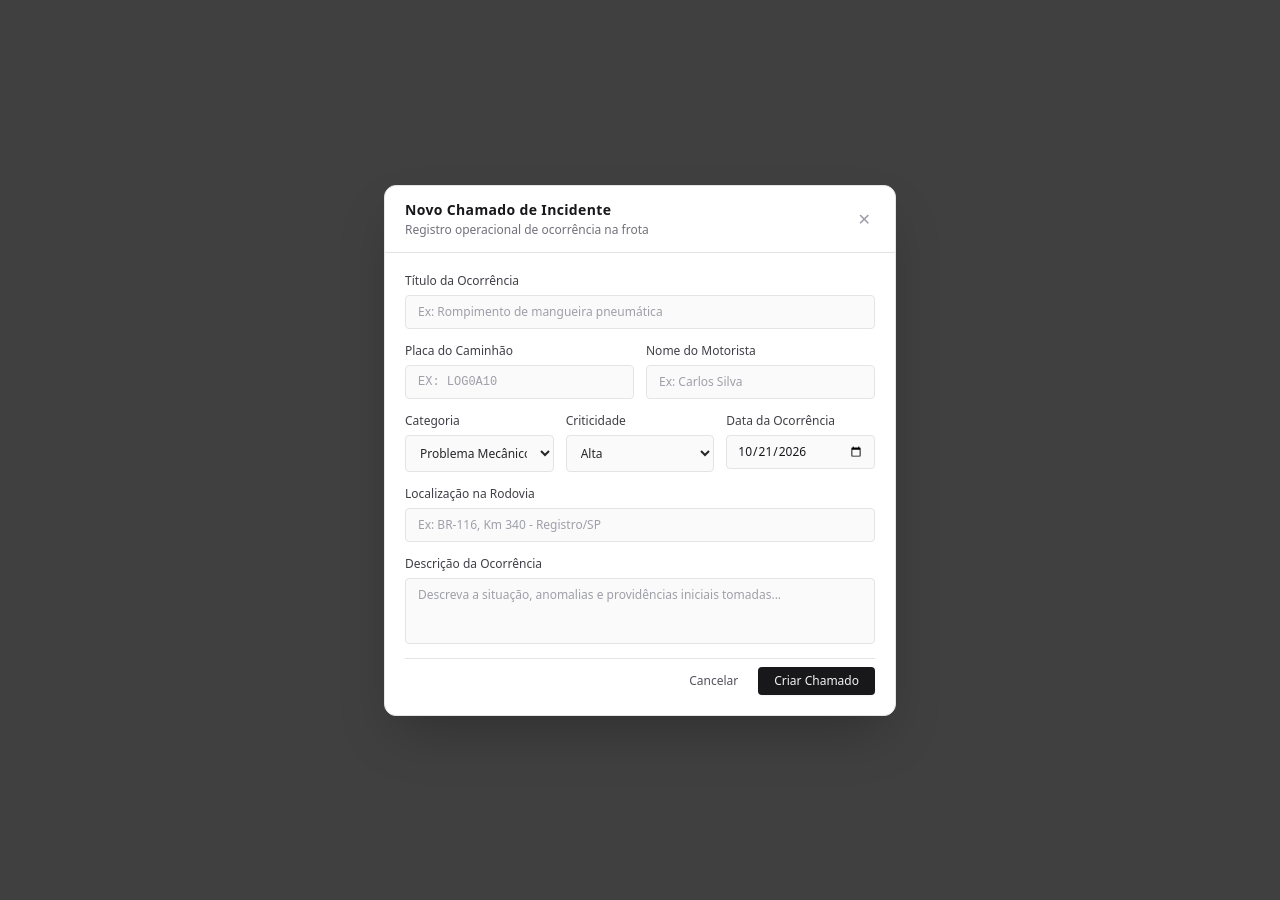
Test: CreateIncidentModal › shows error when plate format is invalid
The width and height of the screenshot is (1280, 900).
Type "INVALID" into the field labelled "Placa do Caminhão". click: (520, 382)
box: [405,364,634,398]
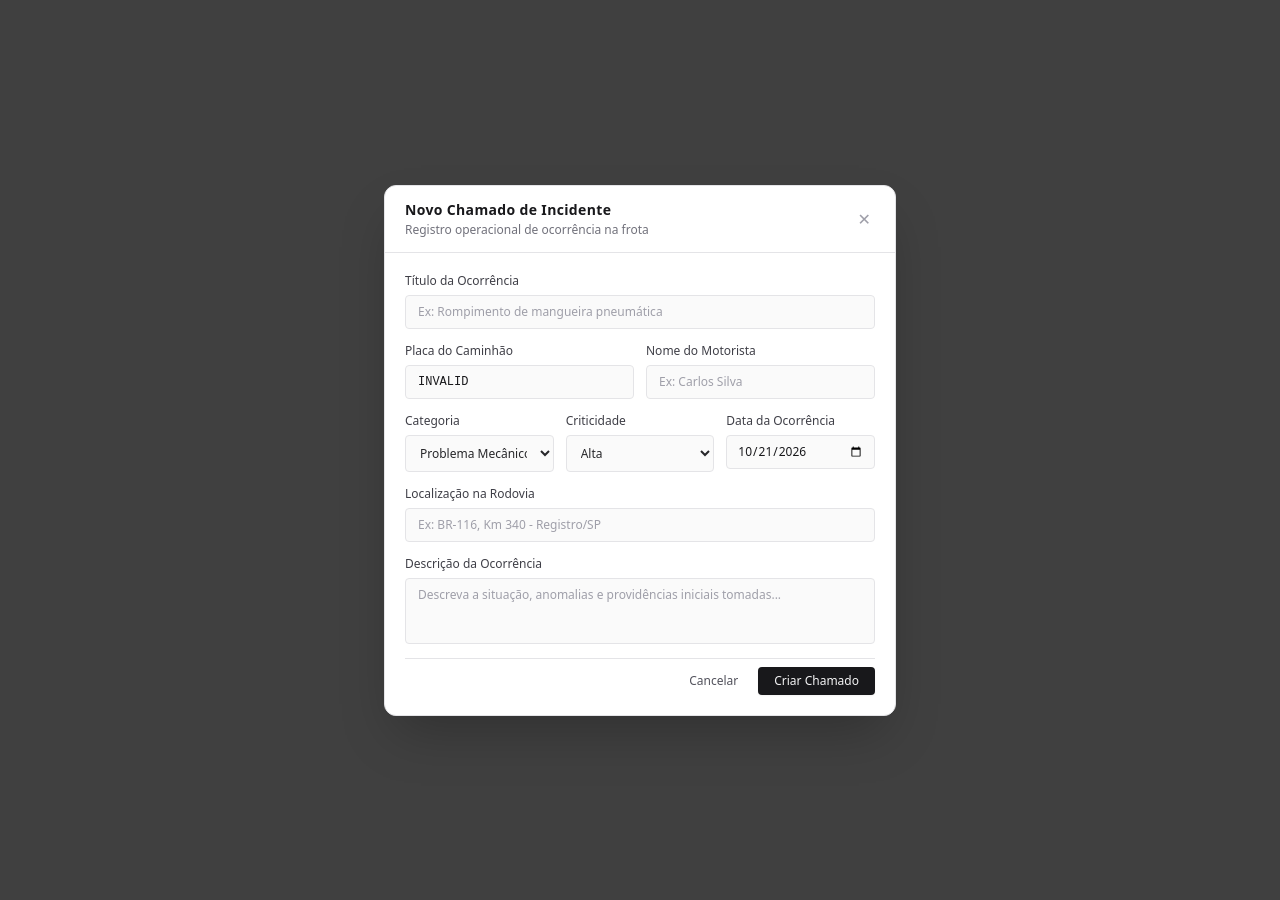
Leave the field labelled "Placa do Caminhão", box [405,364,634,398]
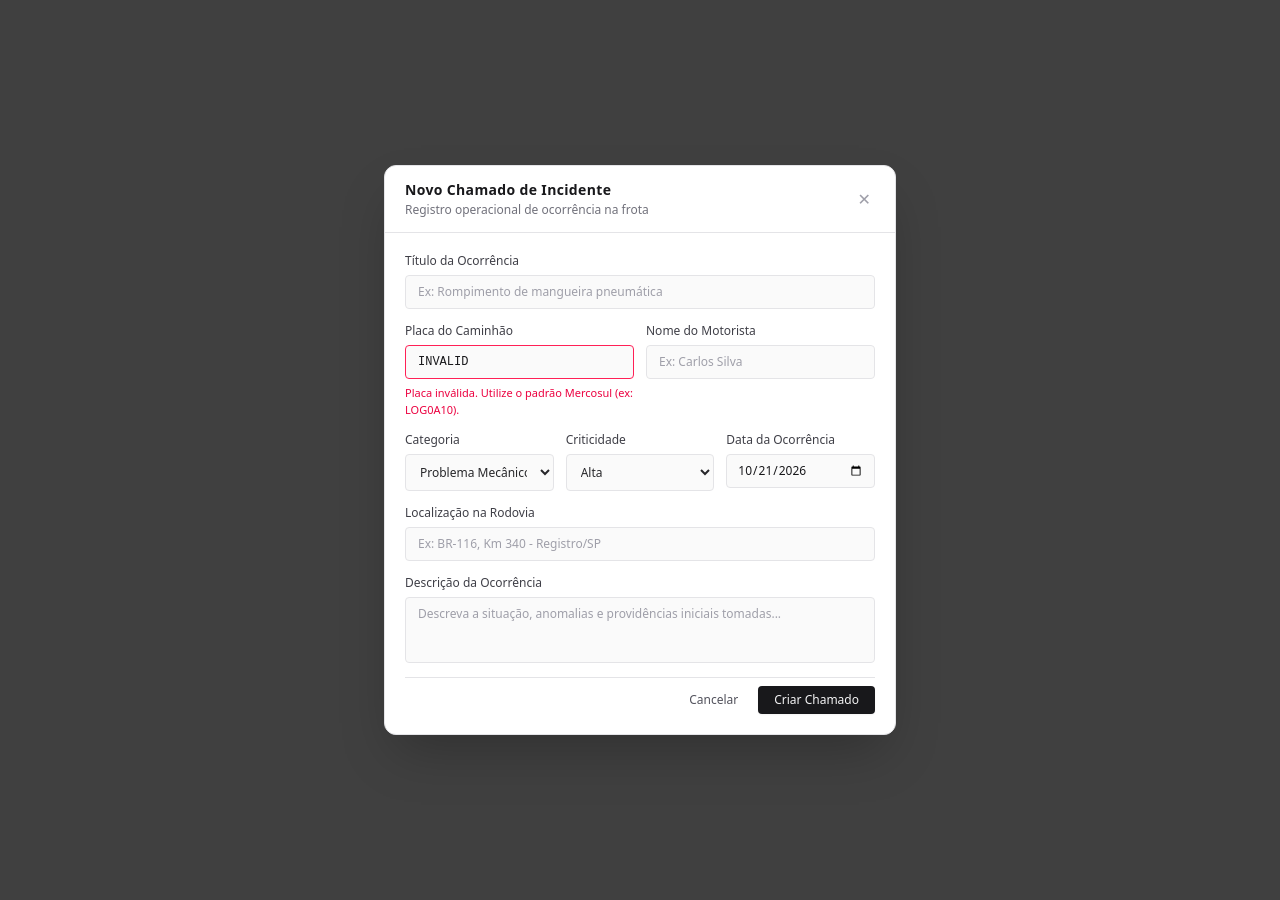
Now the text "Placa inválida. Utilize o padrão Mercosul (ex: LOG0A10)." is shown, box [405,385,634,418]
